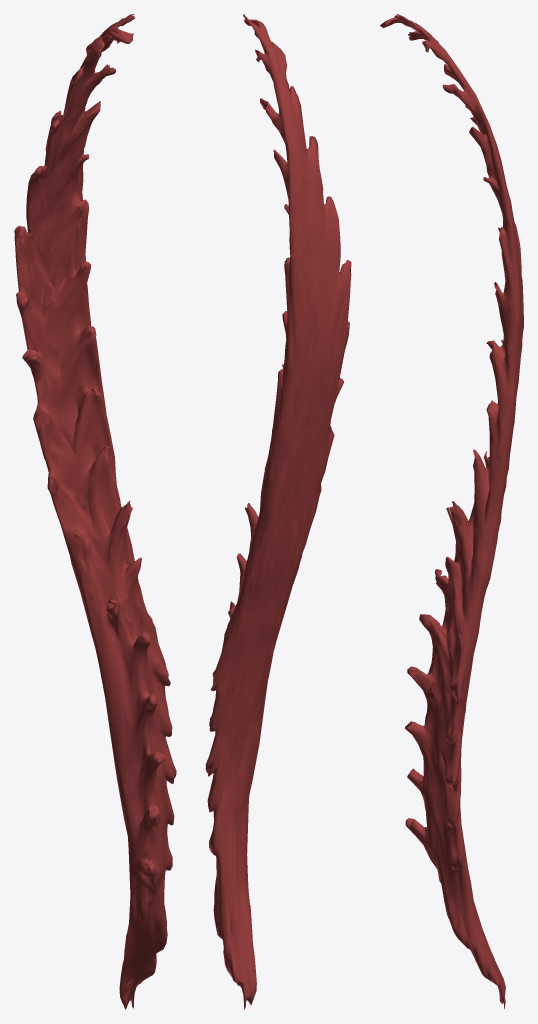
File: longissimus-thoracis-muscle-r.glb
The picture shows the model from 3 angles, left to right: view 1: azimuth 30°, elevation 25°; view 2: azimuth 210°, elevation 25°; view 3: azimuth 270°, elevation 25°; orthographic projection. The views are drawn at different scales.
Parts seen in each view (by area): view 1: Longissimus thoracis muscle.r; view 2: Longissimus thoracis muscle.r; view 3: Longissimus thoracis muscle.r.
Boxes of the visible parts, bbox=[...] form: Longissimus thoracis muscle.r: bbox=[14, 14, 176, 1009]; Longissimus thoracis muscle.r: bbox=[205, 14, 351, 1009]; Longissimus thoracis muscle.r: bbox=[380, 14, 523, 1008].
Size of the model in its own units: 0.0721 by 0.5482 by 0.0738.
